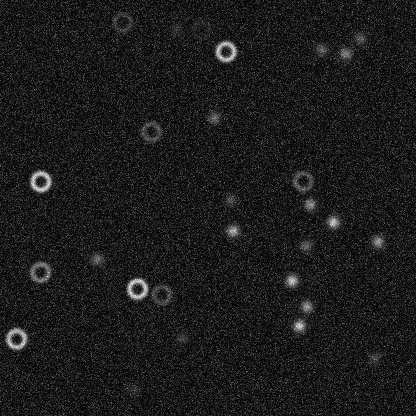Ring: (290, 169, 314, 193), (28, 260, 52, 284), (110, 10, 134, 34), (28, 169, 52, 193), (125, 276, 149, 300), (213, 39, 237, 63), (4, 326, 28, 350), (189, 16, 213, 40), (149, 282, 173, 306), (139, 119, 163, 143)
Spot: (337, 45, 353, 61), (167, 21, 183, 37), (297, 237, 313, 253), (351, 30, 367, 46), (206, 109, 222, 125), (291, 317, 307, 333), (313, 41, 329, 57), (369, 233, 385, 249), (88, 251, 104, 267), (283, 272, 299, 288), (173, 330, 189, 346), (325, 214, 341, 230), (224, 222, 240, 238), (301, 196, 317, 212), (124, 380, 140, 396), (365, 349, 381, 365), (222, 191, 238, 207), (298, 298, 314, 314)
